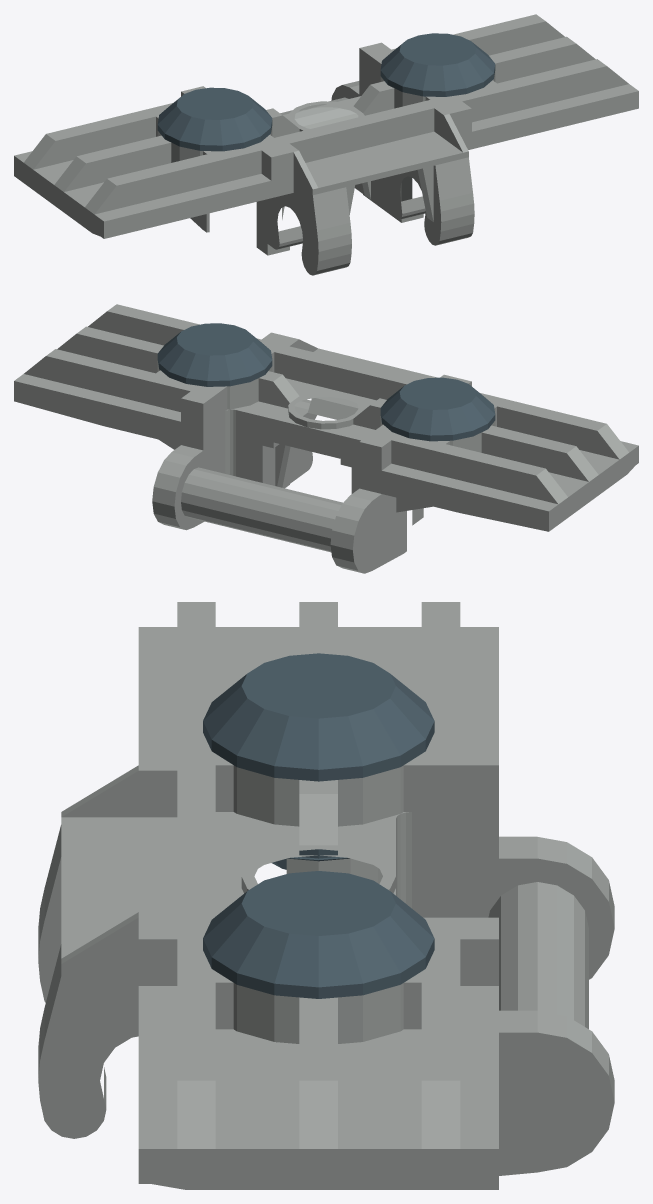
The picture shows the model from 3 angles, top to bottom: view 1: azimuth 30°, elevation 25°; view 2: azimuth 150°, elevation 25°; view 3: azimuth 270°, elevation 25°; orthographic projection. The views are drawn at different scales.
Visible parts, largest first — view 1: world; view 2: world; view 3: world.
Boxes of the visible parts, box(x1,y1,x2,y2) form: world: box(14, 14, 638, 275); world: box(14, 304, 638, 573); world: box(38, 602, 614, 1189).
Bounding box in the file's own units: 0.0384 × 0.01 × 0.0179.
